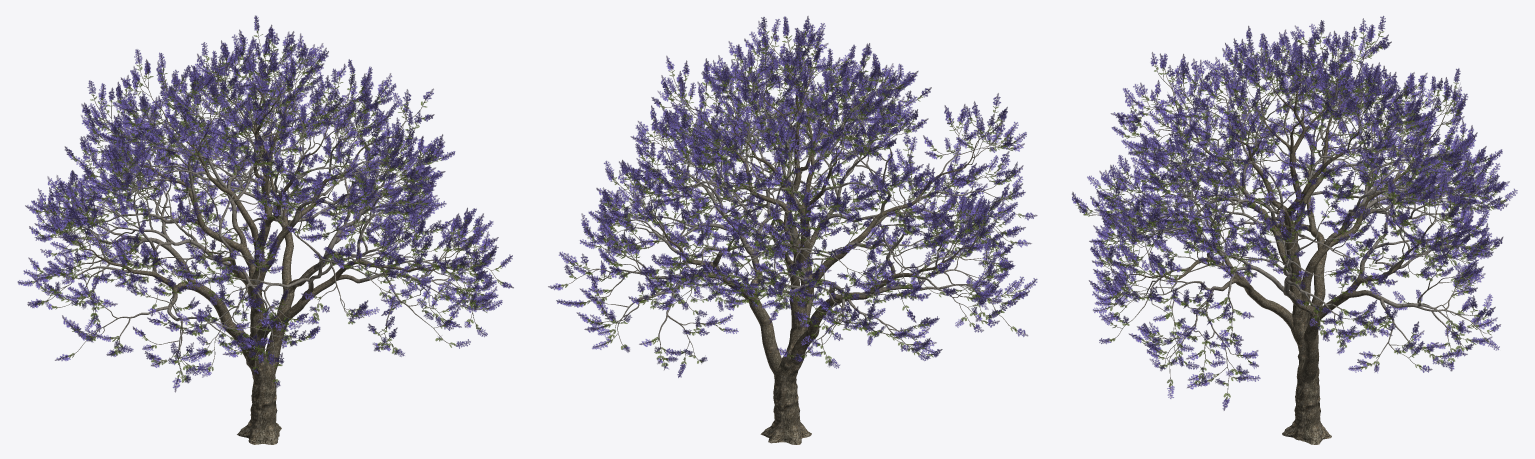
File: cothu.glb
3 views of the same model, side by side, from view 1: azimuth 30°, elevation 25°; view 2: azimuth 150°, elevation 25°; view 3: azimuth 270°, elevation 25° (orthographic).
Visible parts, largest first — view 1: Jacaranda_mimosifolia_HD; view 2: Jacaranda_mimosifolia_HD; view 3: Jacaranda_mimosifolia_HD.
Part boxes in pixels (box(x1,y1,x2,y2)): Jacaranda_mimosifolia_HD: box(17, 15, 513, 444); Jacaranda_mimosifolia_HD: box(548, 16, 1037, 444); Jacaranda_mimosifolia_HD: box(1072, 16, 1517, 444).
Bounding box in the file's own units: 7.59 × 7.07 × 7.25.
Materials: 10 (10 with a texture image).
